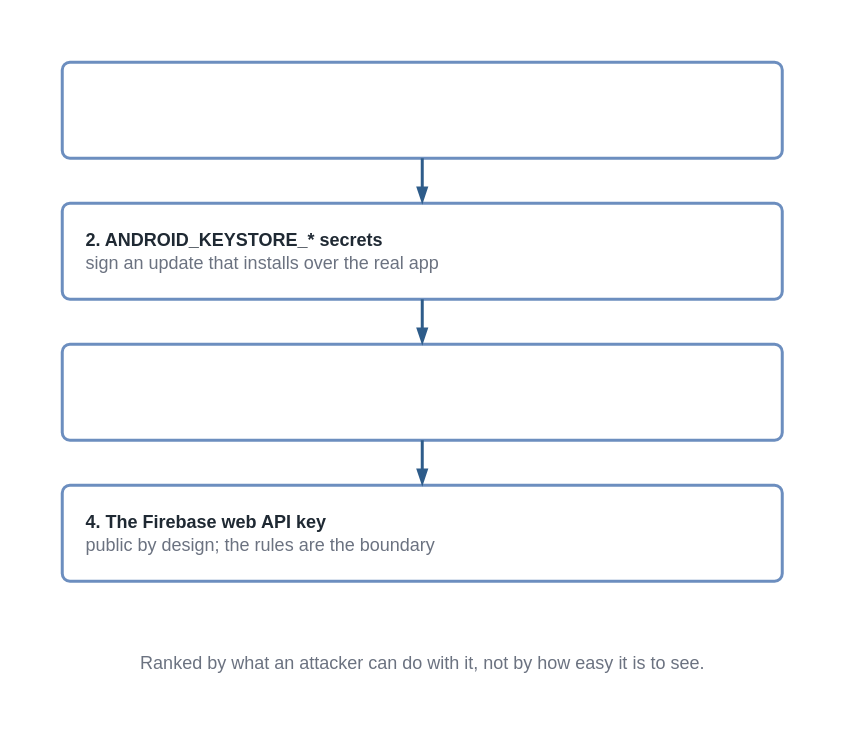
Image size: 843x741. Some labels were removed from this diagram. Here are the shapes that lost their labels. From the top down, the centre of each, then its label:
(x=421, y=109): 1. FIREBASE_SERVICE_ACCOUNT acts on the project from CI: highest blast radius
(x=421, y=391): 3. A test account password one user's data, if the rules hold
